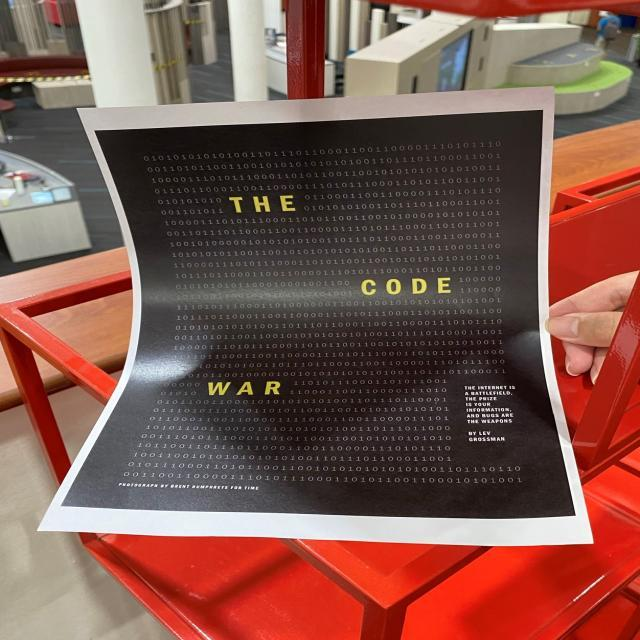document: (40, 88, 594, 546)
